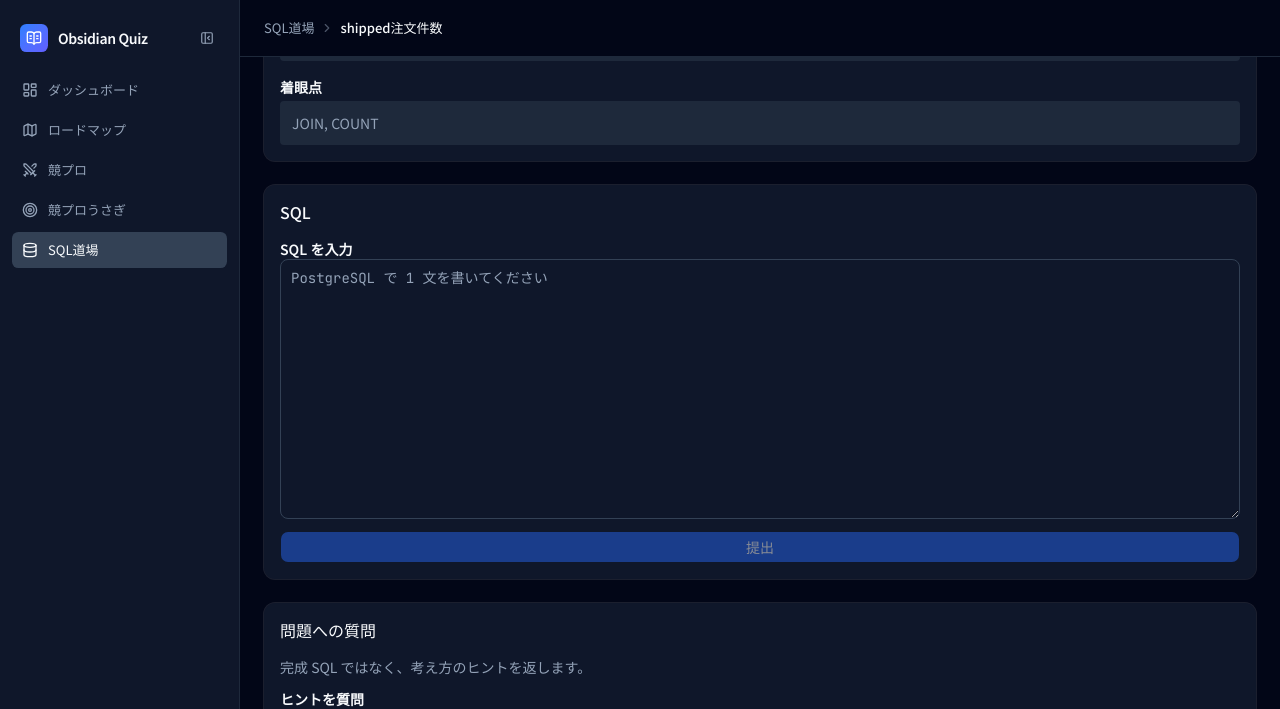
Test case: SqlDojoSessionPage › 提出後は結果と参考 SQL を表示する
(page scrolled)
In the text box labelled "SQL を入力": (760, 389) [280,259,1240,519], type "SELECT 1"
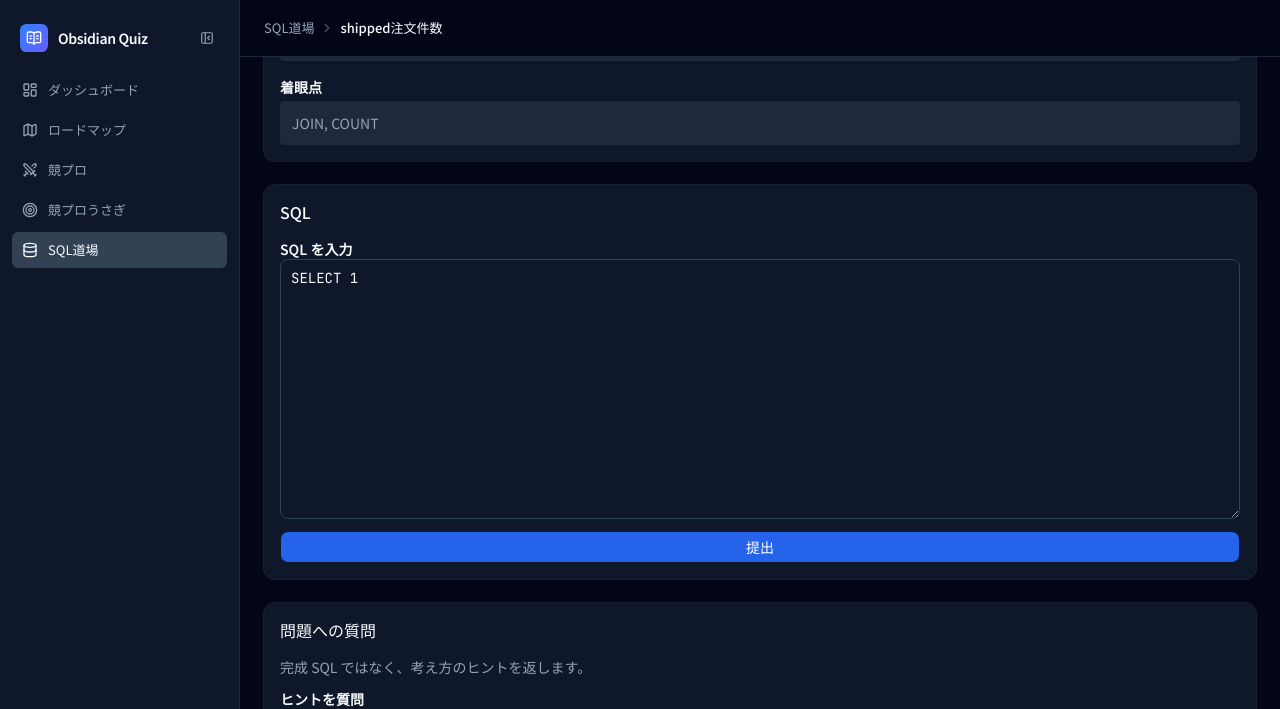
Click the button "提出": (760, 547) [280,531,1240,563]
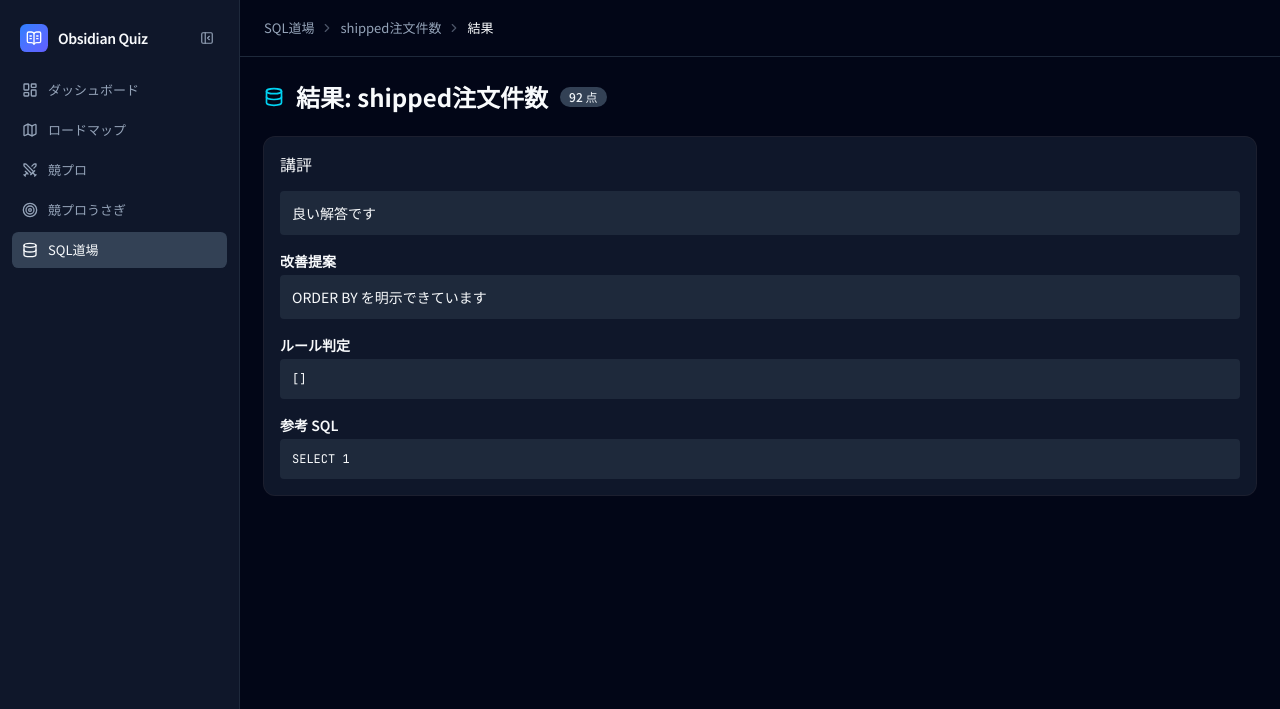
Check: the heading "結果: shipped注文件数" is shown, box [296,81,548,113]
Check: the heading "参考 SQL" is shown, box [280,415,338,435]
Check: the text "SELECT 1" is shown, box [292,451,350,467]
